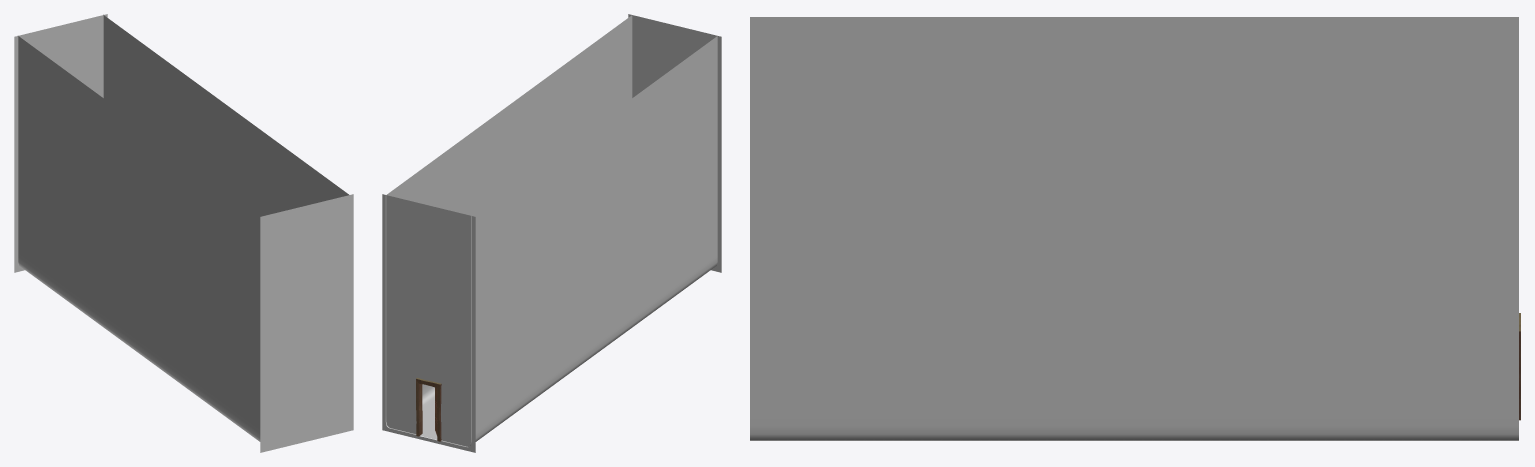
Rendered from Hall.fbx.
3 views of the same model, side by side, from view 1: azimuth 30°, elevation 25°; view 2: azimuth 150°, elevation 25°; view 3: azimuth 270°, elevation 25° (orthographic). The views are drawn at different scales.
Parts seen in each view (by area): view 1: Cube, Plane.001, Plane; view 2: Cube, Plane, Plane.001, Door; view 3: Cube.
Boxes of the visible parts, left/top/right/bottom form: Cube: left=18, top=14, right=348, bottom=441; Plane.001: left=260, top=194, right=353, bottom=452; Plane: left=14, top=14, right=107, bottom=272; Cube: left=385, top=15, right=717, bottom=447; Plane: left=382, top=194, right=475, bottom=452; Plane.001: left=628, top=14, right=721, bottom=272; Door: left=416, top=377, right=441, bottom=441; Cube: left=750, top=17, right=1518, bottom=440.
Size of the model in its own units: 219 by 528 by 1003.
